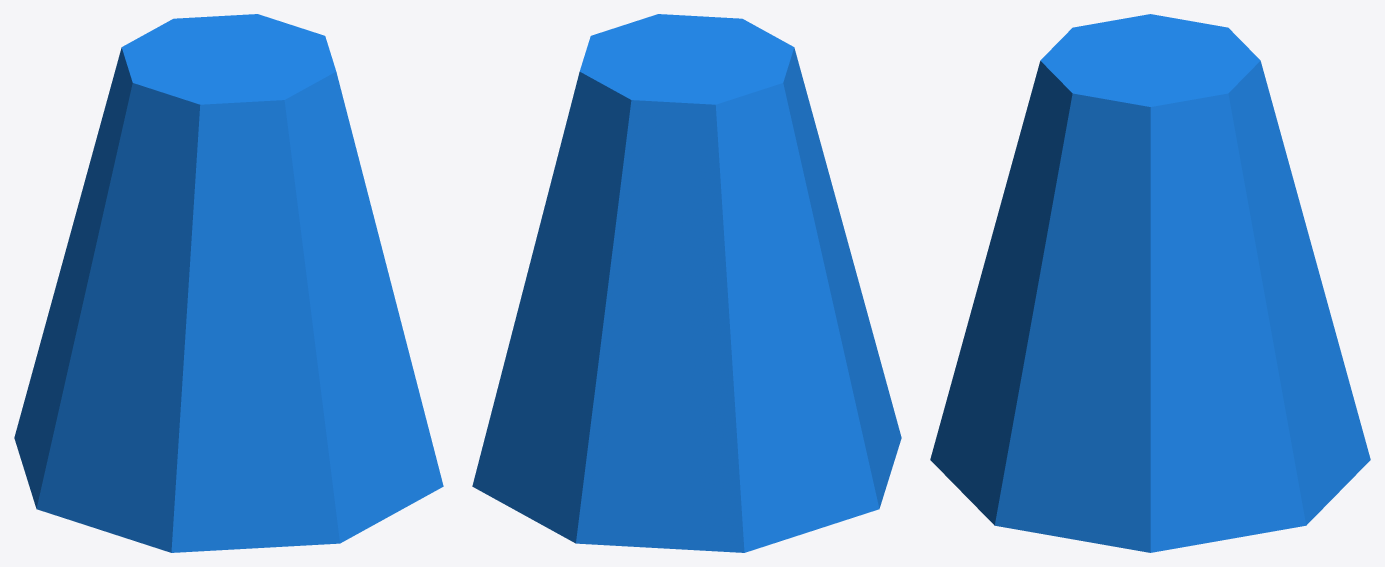
File: Proto_Block_Top_Point_Octagon_Cropped_01.fbx
The picture shows the model from 3 angles, left to right: view 1: azimuth 30°, elevation 25°; view 2: azimuth 150°, elevation 25°; view 3: azimuth 270°, elevation 25°; orthographic projection.
Parts seen in each view (by area): view 1: Proto_Block_Top_Point_Octagon_Cropped_01; view 2: Proto_Block_Top_Point_Octagon_Cropped_01; view 3: Proto_Block_Top_Point_Octagon_Cropped_01.
Boxes of the visible parts, x1=… form: Proto_Block_Top_Point_Octagon_Cropped_01: x1=14, y1=14, x2=443, y2=552; Proto_Block_Top_Point_Octagon_Cropped_01: x1=472, y1=14, x2=901, y2=552; Proto_Block_Top_Point_Octagon_Cropped_01: x1=930, y1=14, x2=1370, y2=552.
Size of the model in its own units: 1 by 1 by 1.
